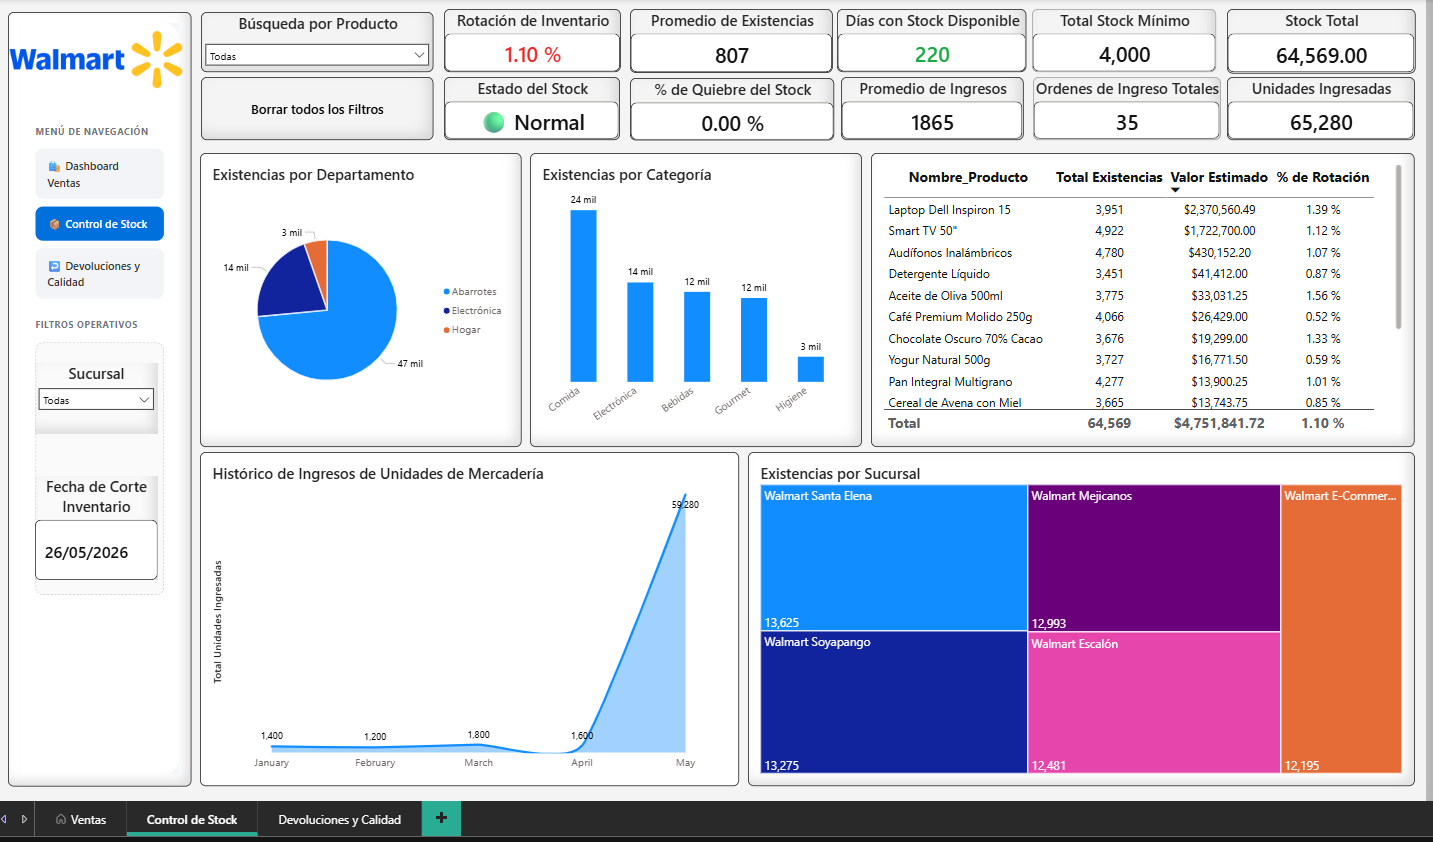

This screenshot's page, from the dashboard's own definition file:
{"tool":"powerbi","page":{"name":"Control de Stock","canvas":[1920,1080],"ordinal":1},"visuals":[{"type":"htmlContent443BE3AD55E043BF878BED274D3A6865","fields":{"content":["Medidas.Barra_Lateral_Stock"]},"box":[10.9,17.2,247,1042.9],"z":0},{"type":"cardVisual","title":"Stock Total","fields":{"Data":["Medidas.Total Existencias_Global"]},"box":[1652.4,13.9,253.7,86.9],"z":1000},{"type":"cardVisual","title":"Total Stock Mínimo","fields":{"Data":["Medidas.Total Stock Minimo"]},"box":[1390,13.9,248.5,85.1],"z":2000},{"type":"cardVisual","title":"Rotación de Inventario","fields":{"Data":["Medidas.Rotacion de Inventario"]},"box":[597.7,13.9,238,85.1],"z":3000},{"type":"cardVisual","title":"Promedio de Existencias","fields":{"Data":["Medidas.Promedio Existencias"]},"box":[848.4,13.5,273.4,86.2],"z":4000},{"type":"tableEx","fields":{"Values":["vDim_Productos.Nombre_Producto","Medidas.Total Existencias","Medidas.Valor Estimado del Inventario","Medidas.Rotacion de Inventario"]},"box":[1172.9,206.8,731.5,396.2],"z":5000},{"type":"columnChart","title":"Existencias por Categoría","fields":{"Category":["vDim_Productos.Categoria"],"Y":["Medidas.Total Existencias"]},"box":[714.1,206.8,446.6,396.2],"z":6000},{"type":"pieChart","title":"Existencias por Departamento","fields":{"Category":["vDim_Departamentos.Nombre_Departamento"],"Y":["Medidas.Total Existencias"]},"box":[269.3,206.8,432.7,396.2],"z":7000},{"type":"lineChart","title":"Histórico de Ingresos de Unidades de Mercadería","fields":{"Category":["vDim_Calendario.Anio Jerarquía.Anio","vDim_Calendario.Anio Jerarquía.Nombre_Mes"],"Y":["Medidas.Total Unidades Ingresadas"]},"box":[269.8,610.6,726.5,449.7],"z":8000},{"type":"treemap","title":"Existencias por Sucursal","fields":{"Group":["vDim_Tiendas.Nombre_Tienda"],"Values":["Medidas.Total Existencias"]},"box":[1006.7,610.6,897.7,449.7],"z":9000},{"type":"actionButton","title":"Ventas","box":[39.8,195.5,190.3,83],"z":10000},{"type":"image","box":[0,13.9,258,135],"z":11000},{"type":"actionButton","title":"Ventas","box":[34.6,278.5,190.3,48.4],"z":12000},{"type":"actionButton","title":"Ventas","box":[34.6,342.5,190.3,65.7],"z":13000},{"type":"slicer","title":"Sucursal","fields":{"Values":["vDim_Tiendas.Nombre_Tienda"]},"box":[46.7,490.8,165.4,95.3],"z":14000},{"type":"cardVisual","title":"Unidades Ingresadas","fields":{"Data":["Medidas.Total Unidades Ingresadas"]},"box":[1651.9,105.5,252.5,84.8],"z":15000},{"type":"cardVisual","title":"Ordenes de Ingreso Totales","fields":{"Data":["Medidas.Total_Embarques"]},"box":[1390.7,105.5,252.5,84.8],"z":16000},{"type":"cardVisual","title":"Promedio de Ingresos","fields":{"Data":["Medidas.Promedio Unidades por Ingreso"]},"box":[1133,105.5,245.6,84.8],"z":17000},{"type":"cardVisual","title":"% de Quiebre del Stock","fields":{"Data":["Medidas.% Quiebre de Stock"]},"box":[848.5,106.1,275.1,84.5],"z":18000},{"type":"cardVisual","title":"Estado del Stock","fields":{"Data":["Medidas.KPI Estado Stock"]},"box":[598.5,105.5,237,84.8],"z":19000},{"type":"cardVisual","title":"Días con Stock Disponible","fields":{"Data":["Medidas.Dias de Stock Disponible"]},"box":[1127.7,13.9,255.4,85.1],"z":20000},{"type":"slicer","title":"Búsqueda por Producto","fields":{"Values":["vDim_Productos.Nombre_Producto"]},"box":[270.1,17.3,313.4,81.4],"z":21000},{"type":"actionButton","box":[270.1,105.6,313.4,84.8],"z":22000},{"type":"cardVisual","title":"Fecha de Corte Inventario","fields":{"Data":["Medidas.Ultima_Actualizacion_Stock"]},"box":[46.7,641.8,165.4,140.2],"z":23000}]}

Visuals, with their boxes on the page's 1920x1080 design canvas (x1, y1, x2, y2). These are canvas units, not pixel positions in the 1433x842 screenshot, which may show the page scaled, cropped or inside an application window:
htmlContent443BE3AD55E043BF878BED274D3A6865 - Medidas.Barra_Lateral_Stock: region(11, 17, 258, 1060)
"Stock Total" cardVisual: region(1652, 14, 1906, 101)
"Total Stock Mínimo" cardVisual: region(1390, 14, 1638, 99)
"Rotación de Inventario" cardVisual: region(598, 14, 836, 99)
"Promedio de Existencias" cardVisual: region(848, 14, 1122, 100)
tableEx - vDim_Productos.Nombre_Producto x Medidas.Total Existencias: region(1173, 207, 1904, 603)
"Existencias por Categoría" columnChart: region(714, 207, 1161, 603)
"Existencias por Departamento" pieChart: region(269, 207, 702, 603)
"Histórico de Ingresos de Unidades de Mercadería" lineChart: region(270, 611, 996, 1060)
"Existencias por Sucursal" treemap: region(1007, 611, 1904, 1060)
"Ventas" actionButton: region(40, 196, 230, 278)
image: region(0, 14, 258, 149)
"Ventas" actionButton: region(35, 278, 225, 327)
"Ventas" actionButton: region(35, 342, 225, 408)
"Sucursal" slicer: region(47, 491, 212, 586)
"Unidades Ingresadas" cardVisual: region(1652, 106, 1904, 190)
"Ordenes de Ingreso Totales" cardVisual: region(1391, 106, 1643, 190)
"Promedio de Ingresos" cardVisual: region(1133, 106, 1379, 190)
"% de Quiebre del Stock" cardVisual: region(848, 106, 1124, 191)
"Estado del Stock" cardVisual: region(598, 106, 836, 190)
"Días con Stock Disponible" cardVisual: region(1128, 14, 1383, 99)
"Búsqueda por Producto" slicer: region(270, 17, 584, 99)
actionButton: region(270, 106, 584, 190)
"Fecha de Corte Inventario" cardVisual: region(47, 642, 212, 782)
